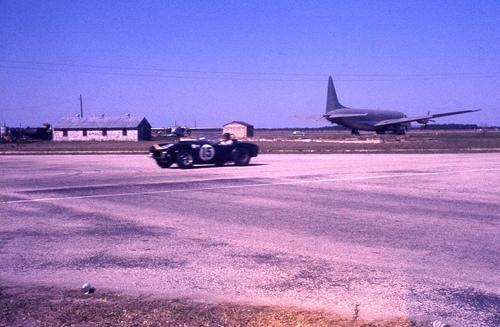car: (147, 140, 260, 169)
